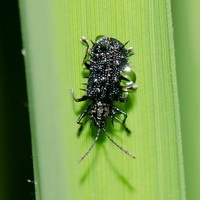insect: (73, 35, 136, 161)
